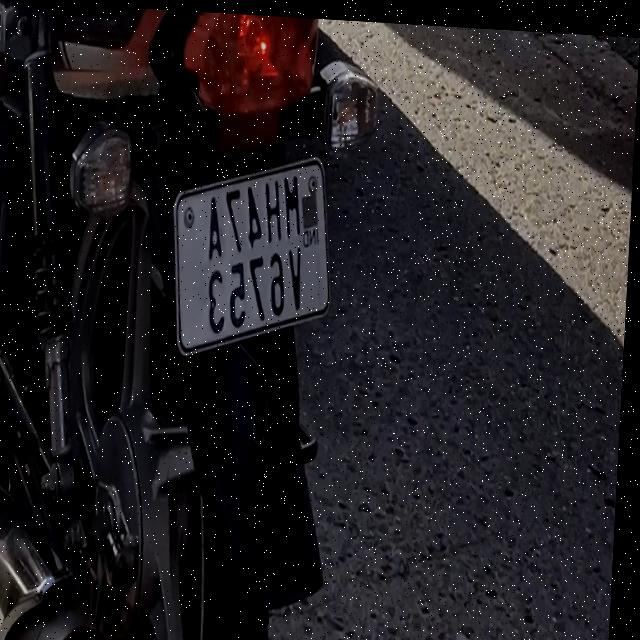plate: (164, 135, 342, 373)
